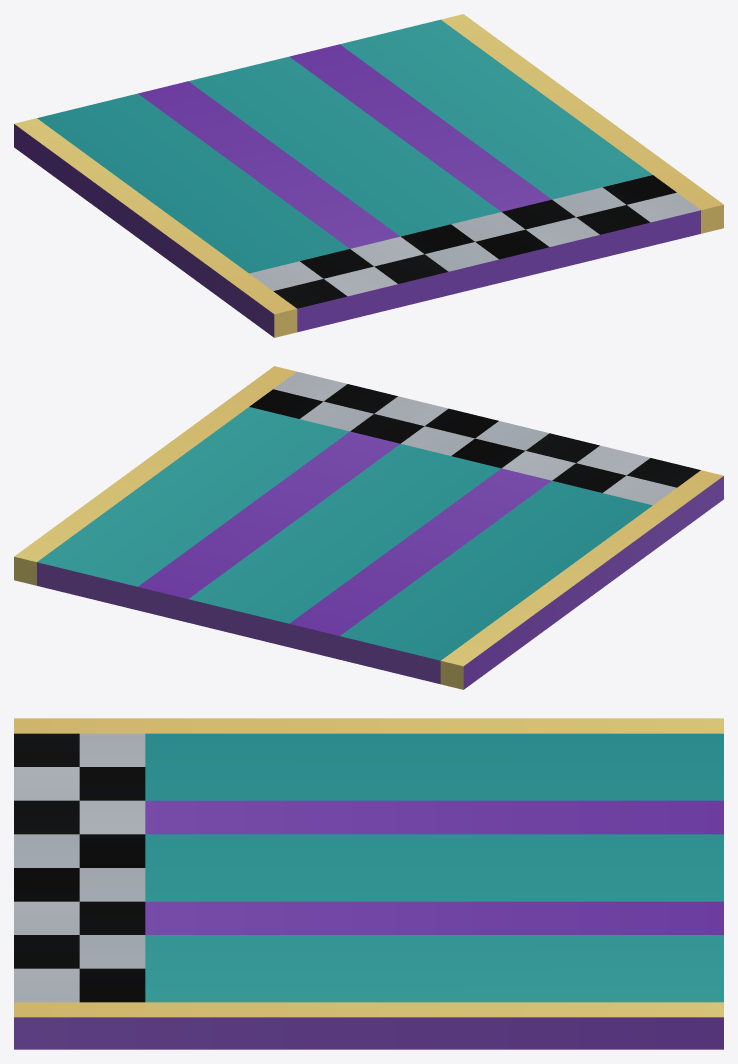
File: ENV_Finish_Track.fbx
The picture shows the model from 3 angles, top to bottom: view 1: azimuth 30°, elevation 25°; view 2: azimuth 150°, elevation 25°; view 3: azimuth 270°, elevation 25°; orthographic projection. The views are drawn at different scales.
Parts seen in each view (by area): view 1: ENV_Finish_Track; view 2: ENV_Finish_Track; view 3: ENV_Finish_Track.
Part boxes in pixels (left/top/right/bottom): ENV_Finish_Track: left=14, top=14, right=723, bottom=337; ENV_Finish_Track: left=14, top=366, right=723, bottom=689; ENV_Finish_Track: left=14, top=718, right=723, bottom=1049.
Size of the model in its own units: 9.97 by 0.5 by 10.
